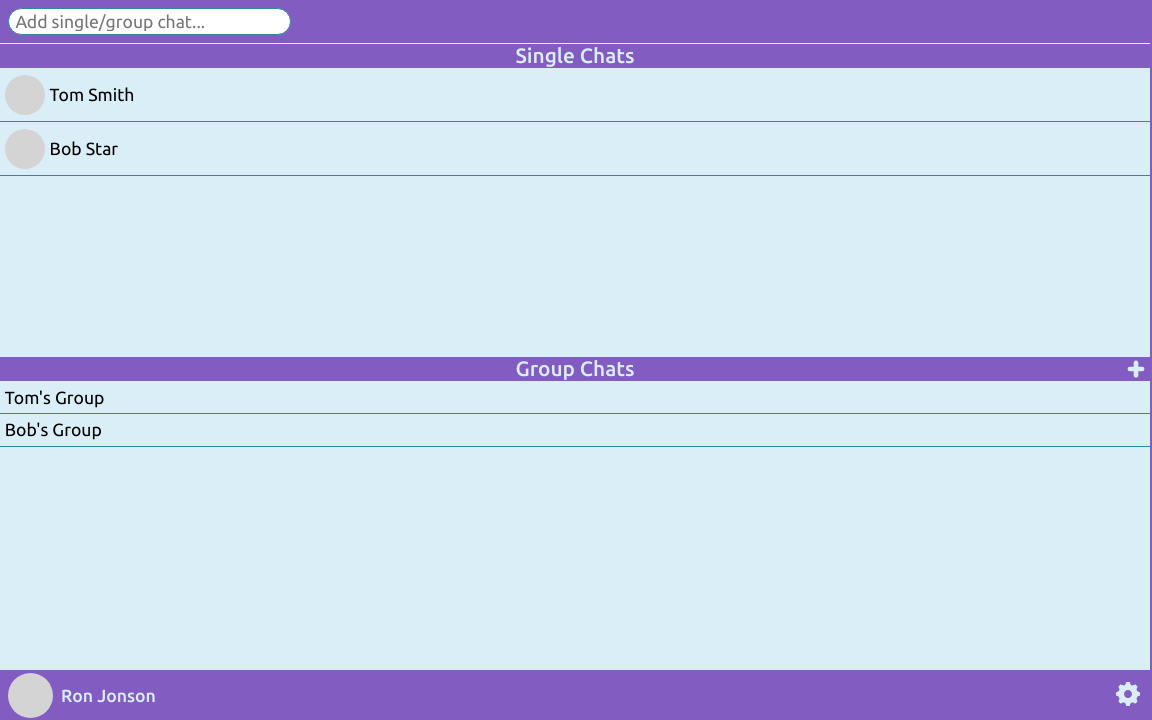
Test: LeftBar component tests › Testing openning and closing create group window after clicking plus button
The image size is (1152, 720).
Click the button with test id "addGroupBtn": (1136, 369) [1123,359,1149,379]
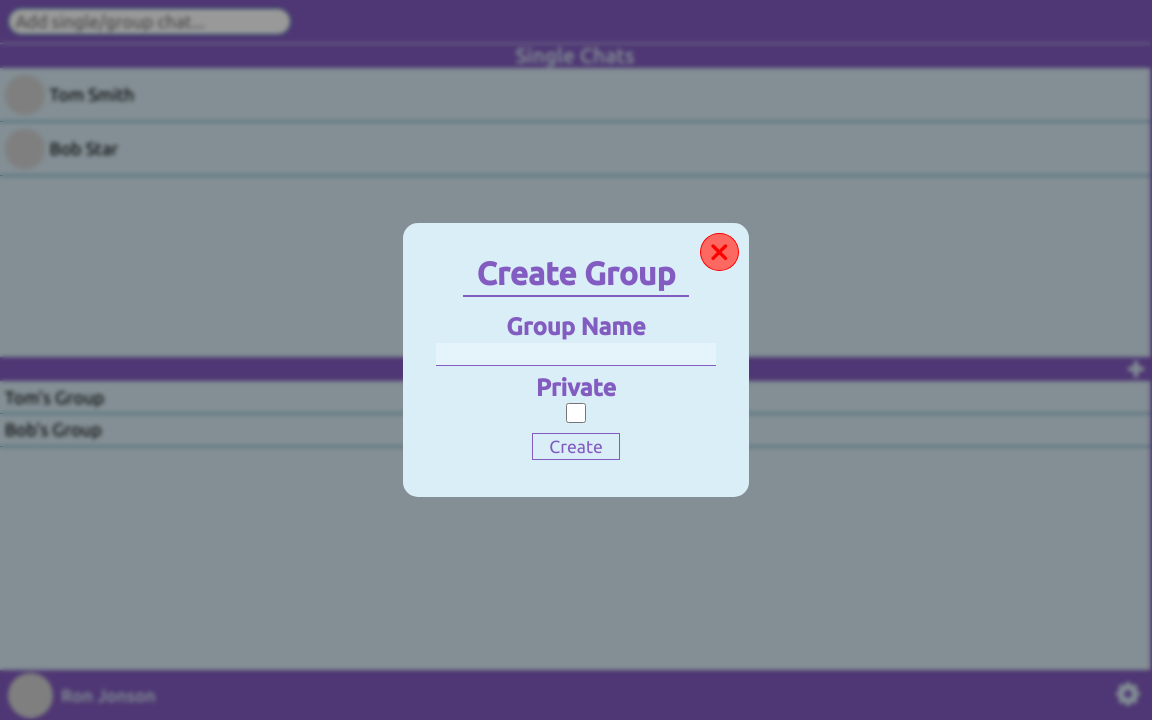
Result: the heading "Create Group" is shown at [476,255,676,292]
Click the button with test id "closeWindow": (720, 252) [700,233,739,271]
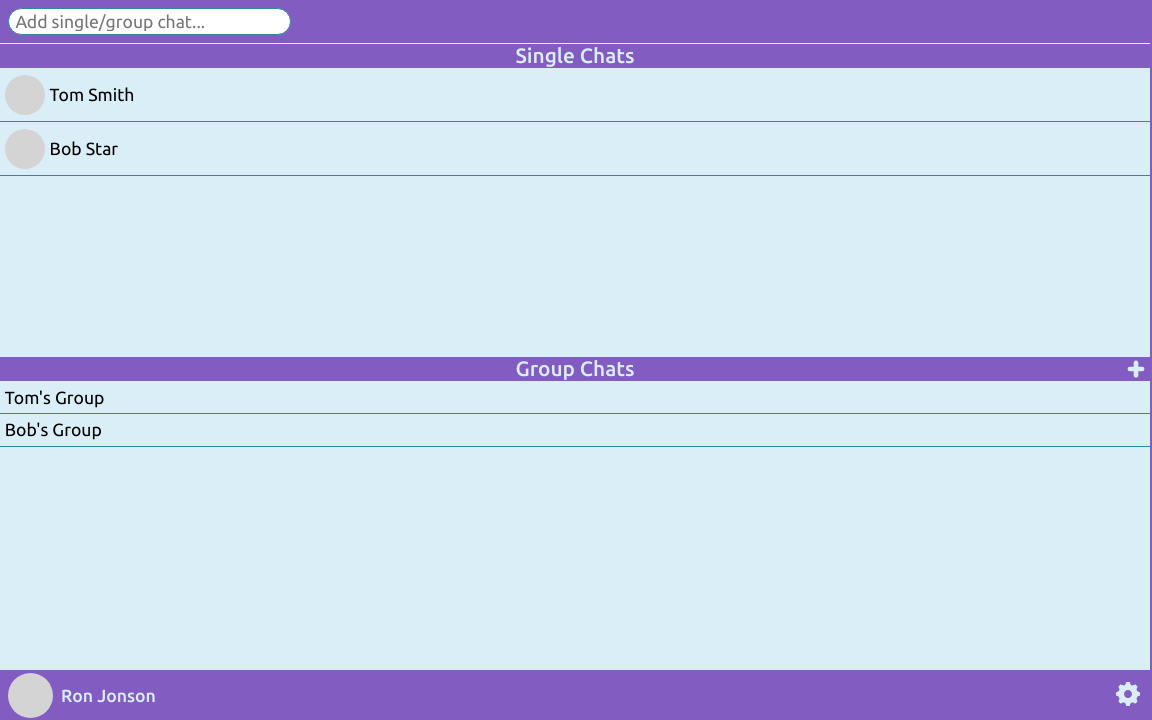
Result: the heading with test id "createGroupTitle" is gone
